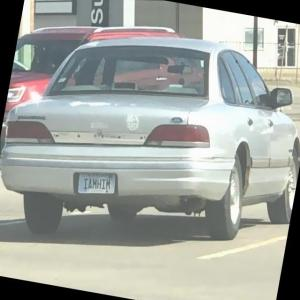Plate: (77, 171, 116, 194)
